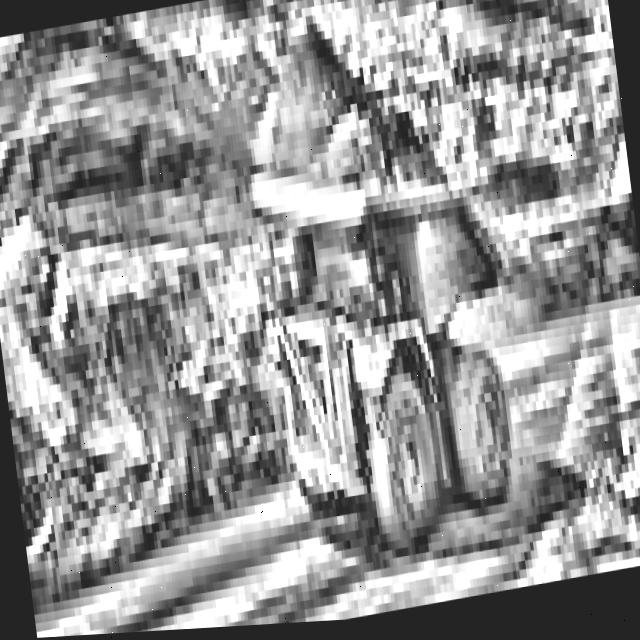dump_truck: (219, 30, 600, 576)
